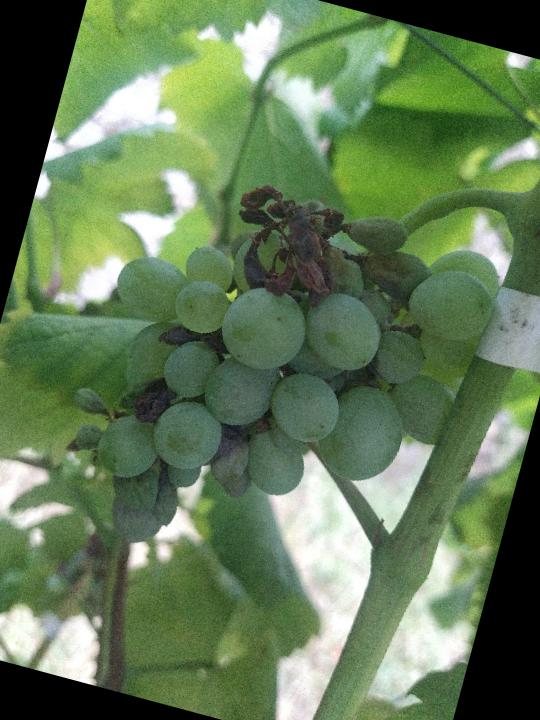grape: (36, 146, 513, 625)
